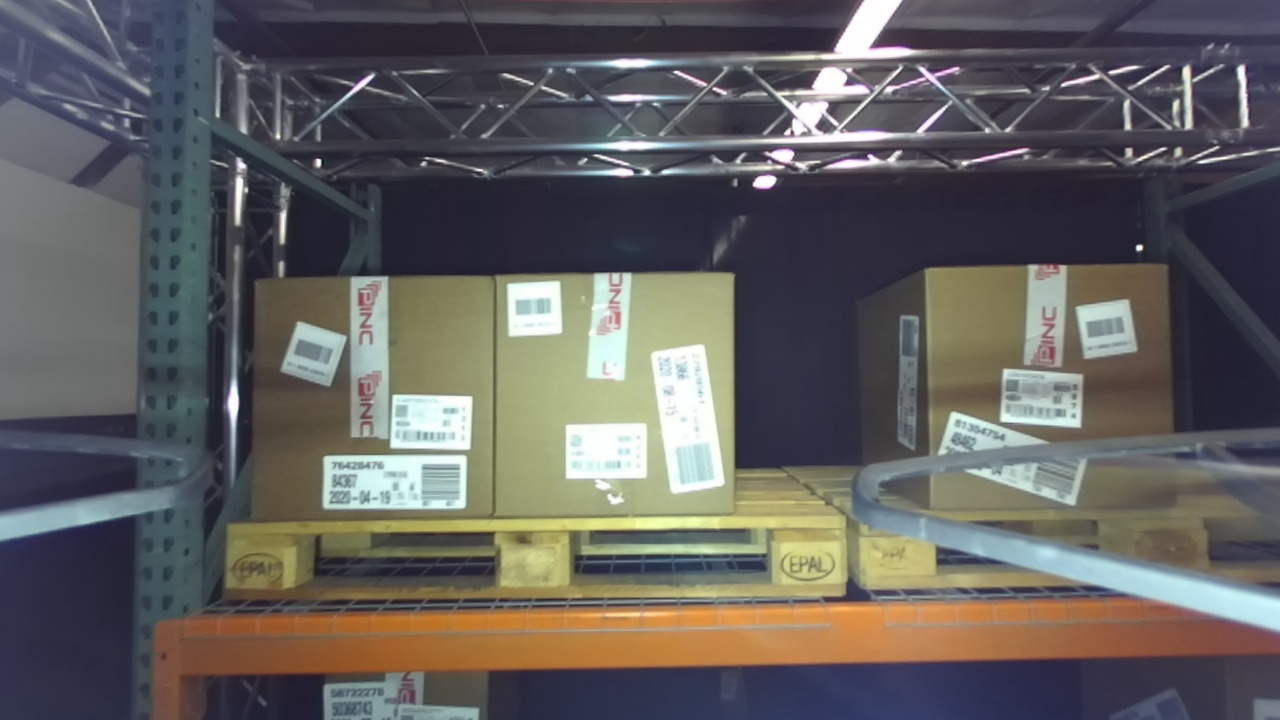box: (905, 248, 1195, 534), (475, 254, 752, 537), (236, 258, 509, 539)
